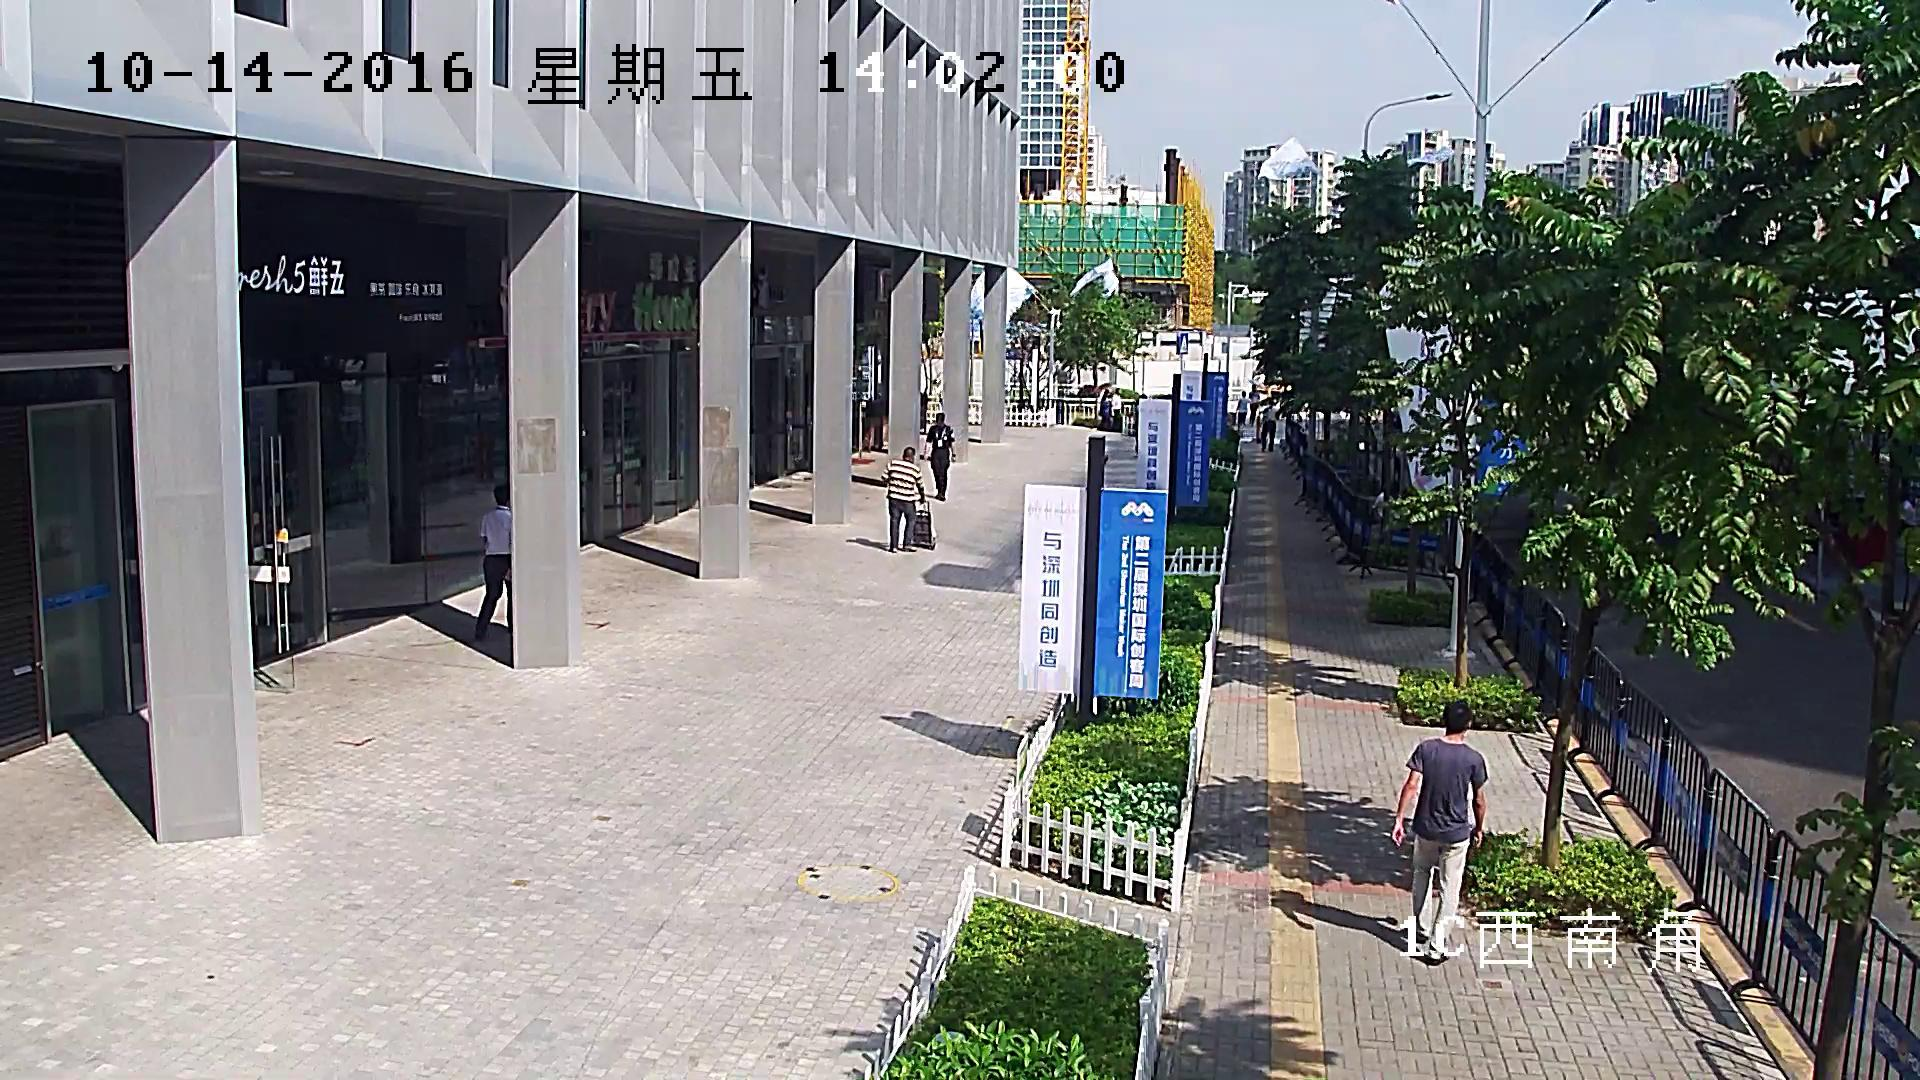person: (1390, 702, 1489, 963), (474, 485, 512, 641), (881, 446, 936, 553), (882, 447, 925, 553), (926, 412, 956, 501), (1261, 403, 1277, 453), (1248, 384, 1260, 423), (1236, 390, 1250, 425), (1100, 390, 1110, 421), (1111, 388, 1121, 416)
